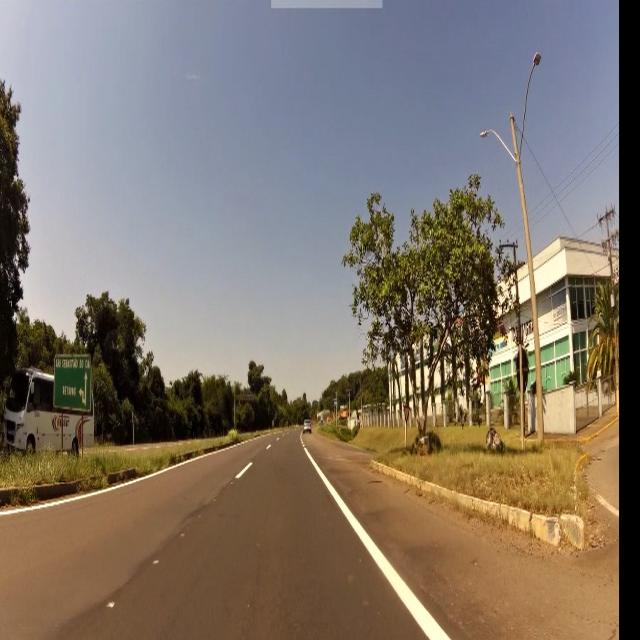I-4: (56, 355, 92, 408)
